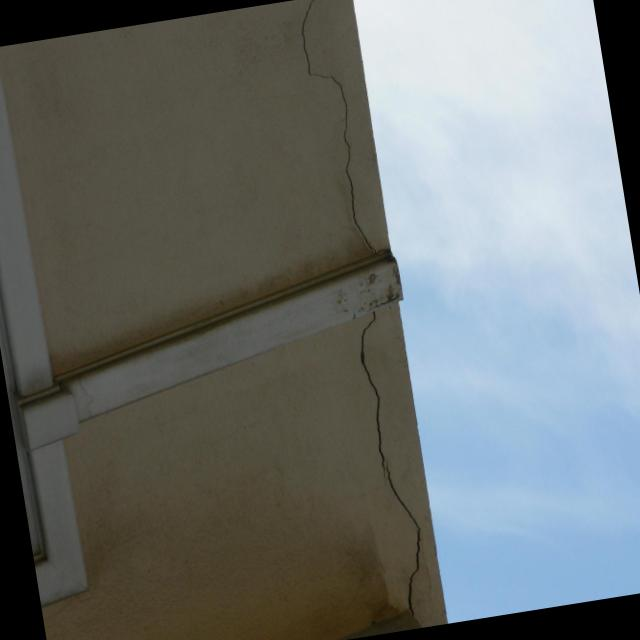crack: (360, 307, 424, 613), (300, 0, 349, 137), (345, 142, 380, 257)
